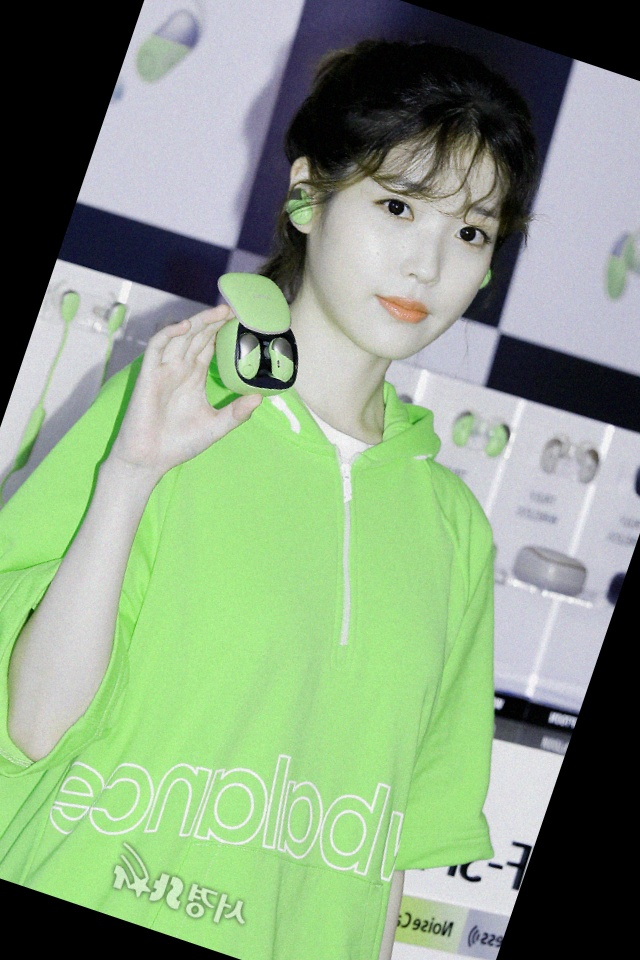earphone: (273, 153, 335, 236)
